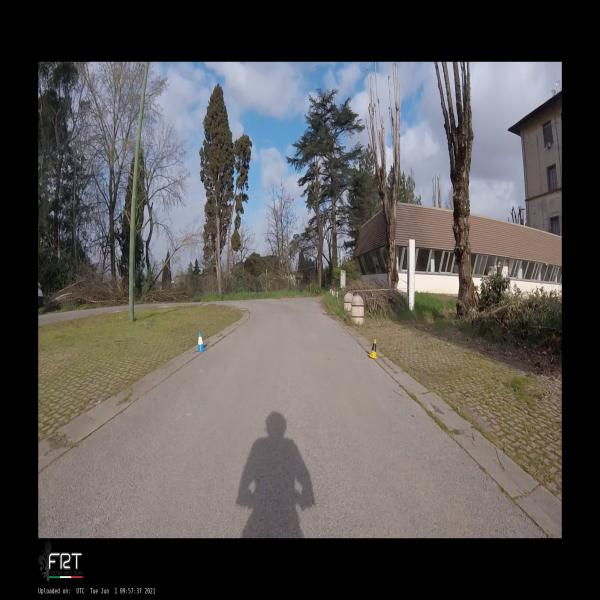blue_cone: (196, 332, 206, 351)
yellow_cone: (368, 339, 378, 359)
